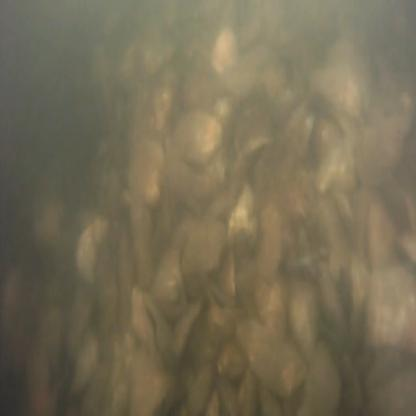3: (129, 287, 179, 383), (317, 40, 361, 135), (130, 348, 181, 416), (154, 240, 194, 320), (174, 111, 220, 170), (209, 281, 233, 318)
Oyster-Closed: (359, 259, 416, 355), (302, 343, 339, 416), (187, 218, 228, 278), (237, 99, 274, 159), (258, 206, 283, 282), (294, 289, 322, 355), (232, 185, 254, 245)
Oyster-Open: (236, 319, 309, 401), (362, 200, 392, 268), (72, 334, 99, 392), (79, 225, 98, 285)
